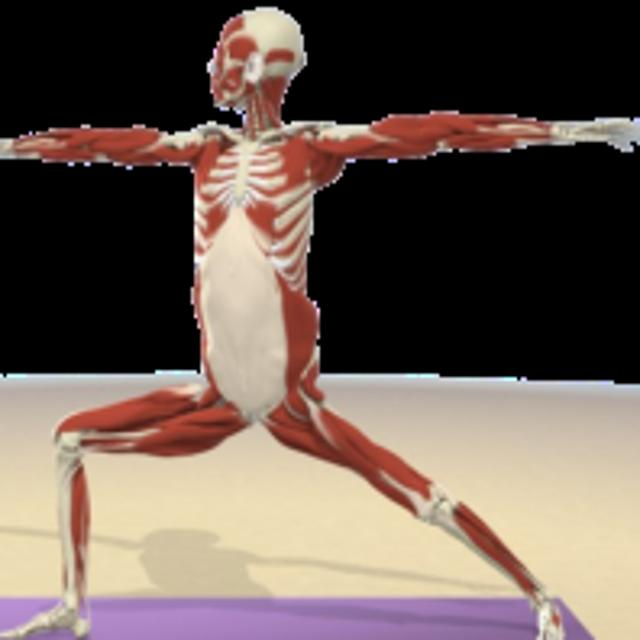Warrior_II: (7, 11, 636, 640)
